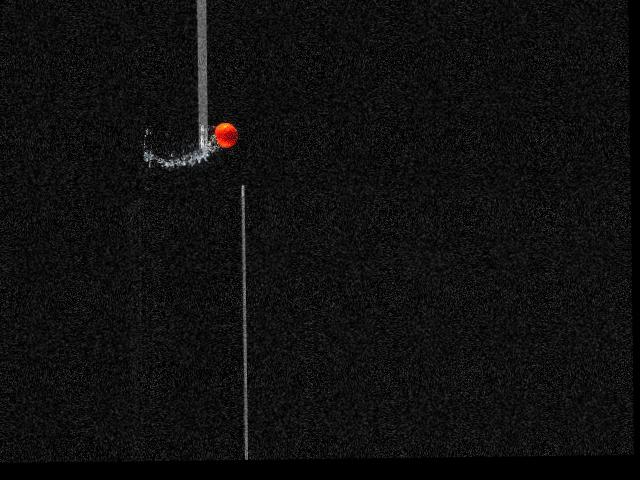tomato: (214, 122, 237, 147)
